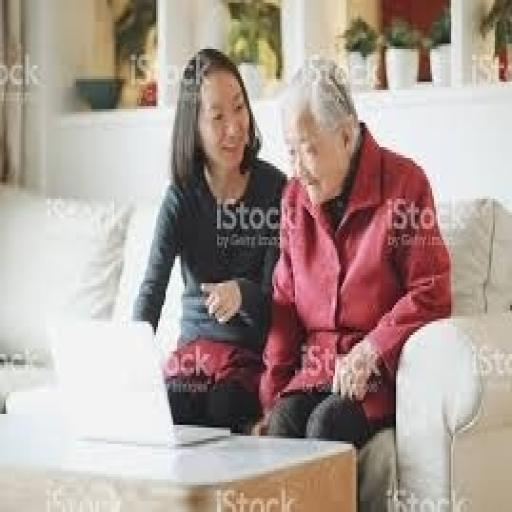using_laptop: (50, 314, 232, 450)
